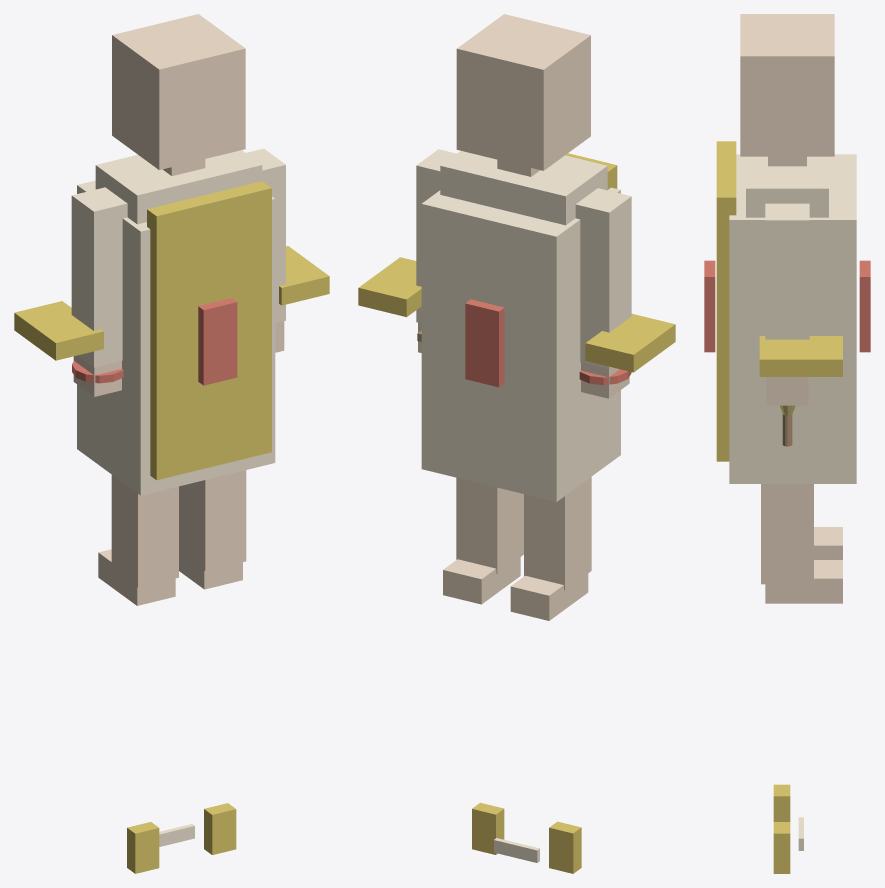
Rendered from alexios.glb.
3 renders of one model, left to right at view 1: azimuth 30°, elevation 25°; view 2: azimuth 150°, elevation 25°; view 3: azimuth 270°, elevation 25°, orthographic.
Parts seen in each view (by area): view 1: outfit_cloak_0, head, outfit_tunic_0, arm_L_upper, leg_L_shin, torso, leg_R_shin, outfit_armor_2, outfit_armor_4, arm_R_upper, outfit_armor_1, leg_L_foot (+4 smaller); view 2: outfit_tunic_0, head, torso, arm_L_upper, leg_L_shin, leg_R_shin, outfit_armor_2, outfit_armor_3, outfit_armor_1, leg_L_foot, leg_R_foot, arm_R_upper (+4 smaller); view 3: outfit_tunic_0, head, arm_R_upper, leg_R_shin, outfit_cloak_0, torso, outfit_armor_1, leg_R_foot, arm_R_hand, outfit_armor_3, outfit_armor_4, leg_L_foot (+4 smaller).
Part boxes in pixels (x1,y1,x2,y2): outfit_cloak_0: [147, 181, 271, 480]; head: [112, 14, 245, 169]; outfit_tunic_0: [77, 180, 275, 495]; arm_L_upper: [71, 187, 127, 367]; leg_L_shin: [111, 475, 178, 587]; torso: [95, 150, 262, 224]; leg_R_shin: [179, 470, 246, 571]; outfit_armor_2: [14, 301, 103, 360]; outfit_armor_4: [198, 298, 237, 385]; arm_R_upper: [246, 148, 285, 323]; outfit_armor_1: [279, 246, 329, 305]; leg_L_foot: [98, 549, 175, 605]; outfit_tunic_0: [421, 187, 620, 501]; head: [456, 14, 590, 170]; torso: [440, 151, 607, 225]; arm_L_upper: [575, 188, 631, 369]; leg_L_shin: [524, 477, 591, 590]; leg_R_shin: [456, 477, 523, 573]; outfit_armor_2: [585, 313, 675, 372]; outfit_armor_3: [465, 299, 504, 387]; outfit_armor_1: [358, 257, 421, 317]; leg_L_foot: [510, 574, 588, 620]; leg_R_foot: [443, 557, 520, 604]; arm_R_upper: [416, 149, 456, 323]; outfit_tunic_0: [729, 154, 856, 483]; head: [740, 14, 834, 156]; arm_R_upper: [765, 203, 809, 339]; leg_R_shin: [761, 484, 813, 584]; outfit_cloak_0: [716, 141, 736, 461]; torso: [746, 156, 828, 217]; outfit_armor_1: [759, 336, 842, 376]; leg_R_foot: [765, 560, 842, 603]; arm_R_hand: [766, 377, 808, 405]; outfit_armor_3: [859, 260, 870, 352]; outfit_armor_4: [704, 260, 715, 352]; leg_L_foot: [814, 527, 842, 559].
Size of the model in its own units: 1.14 by 3.24 by 0.6.
